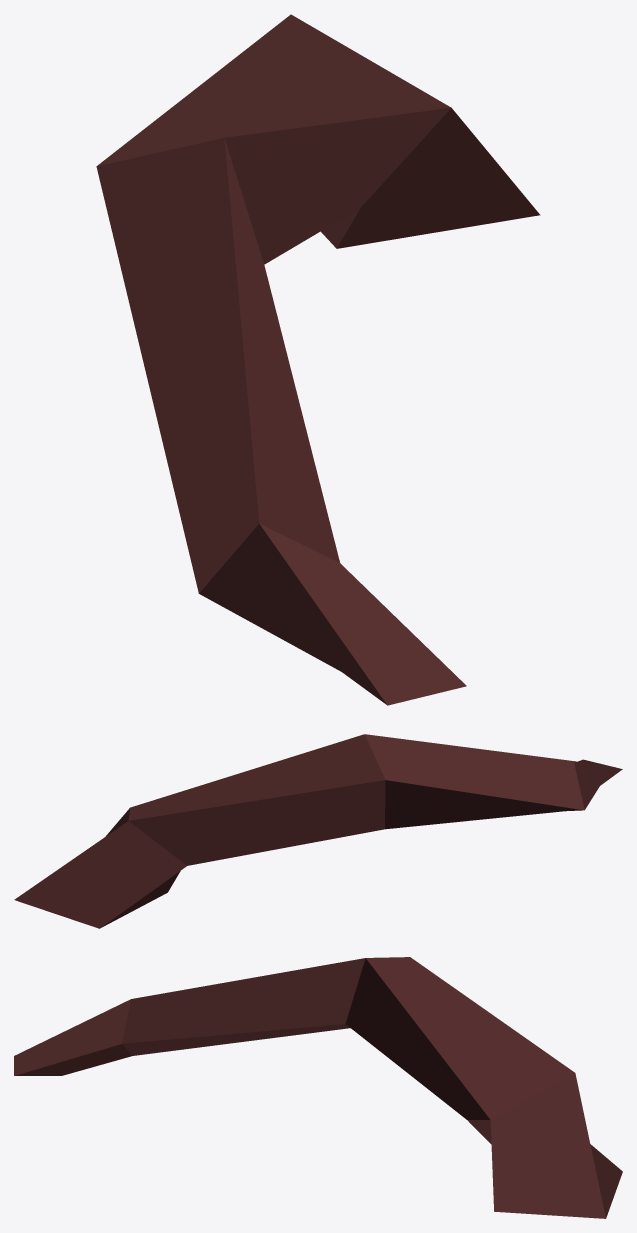
Rendered from Vine2_Alt3.fbx.
The picture shows the model from 3 angles, top to bottom: view 1: azimuth 30°, elevation 25°; view 2: azimuth 150°, elevation 25°; view 3: azimuth 270°, elevation 25°; orthographic projection. The views are drawn at different scales.
Parts seen in each view (by area): view 1: Vine2_Alt3; view 2: Vine2_Alt3; view 3: Vine2_Alt3.
Boxes of the visible parts, x1,y1,x2,y2 form: Vine2_Alt3: (96,14,540,705); Vine2_Alt3: (14,734,622,928); Vine2_Alt3: (14,957,622,1218).
Bounding box in the file's own units: 0.3531 × 0.1327 × 0.5133.
